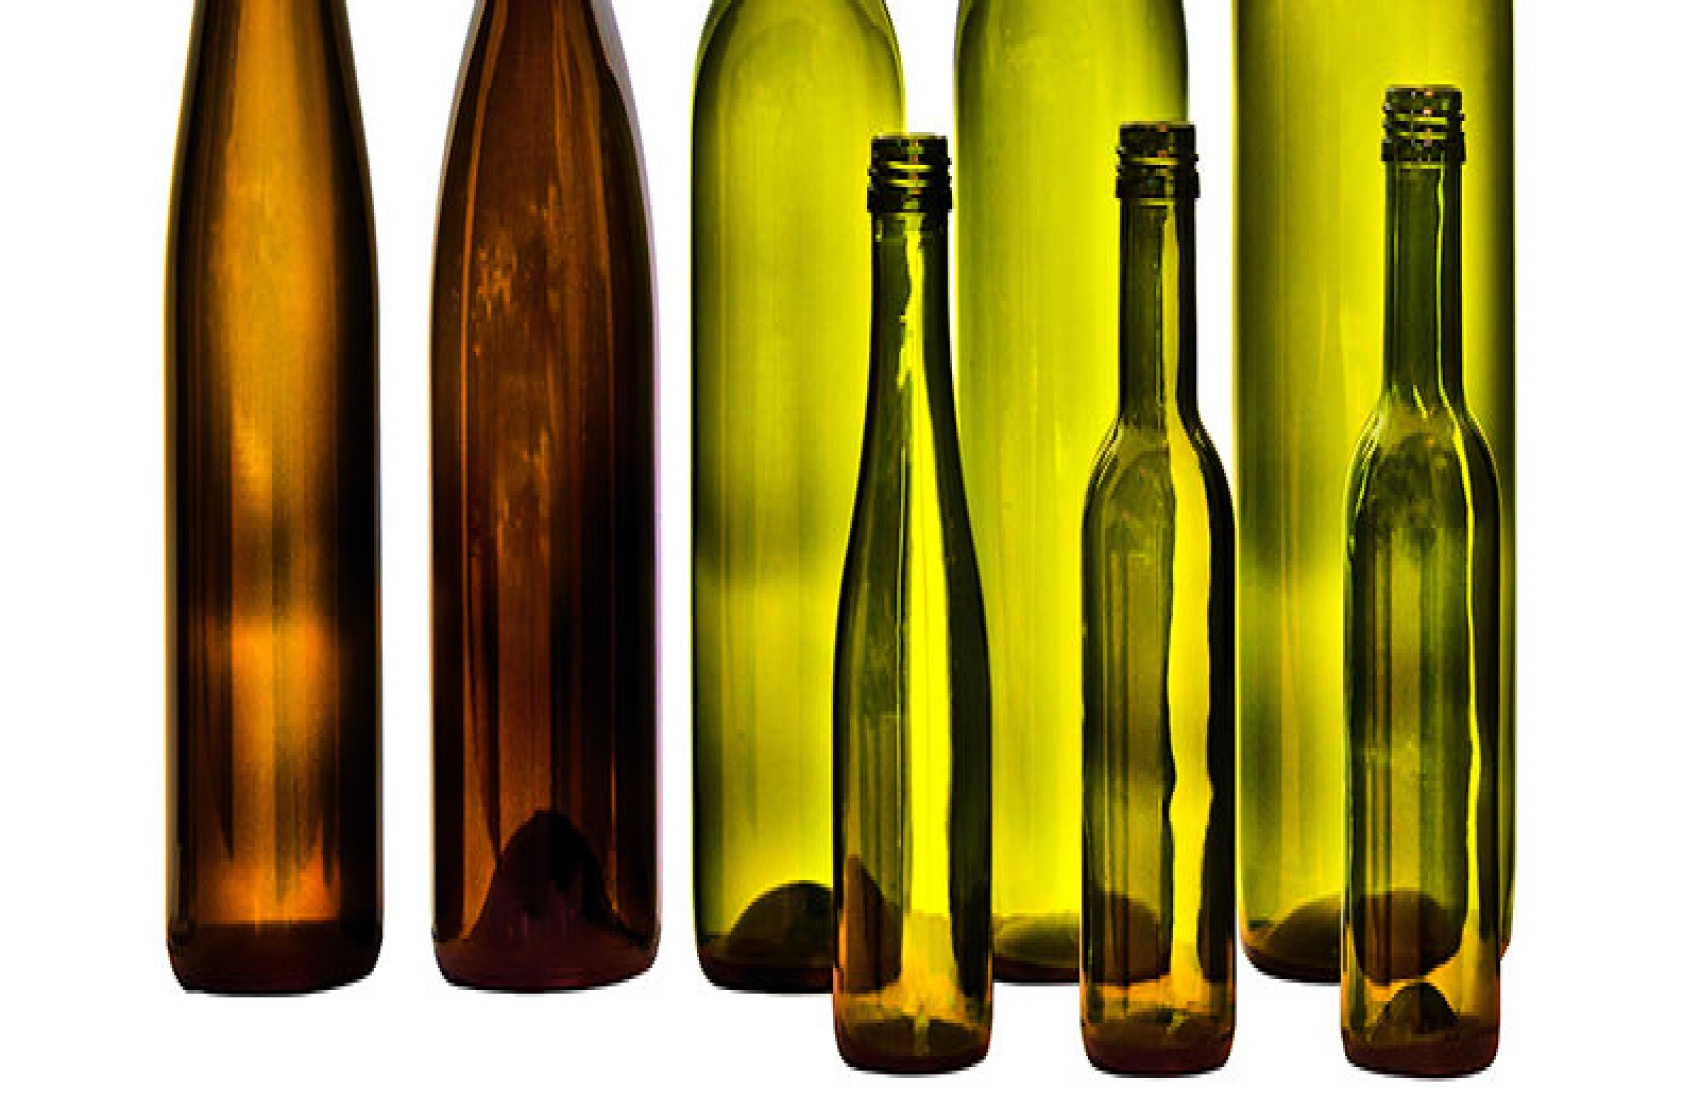wine: (828, 131, 1000, 1062), (1334, 133, 1507, 1063), (1069, 121, 1224, 1084)
